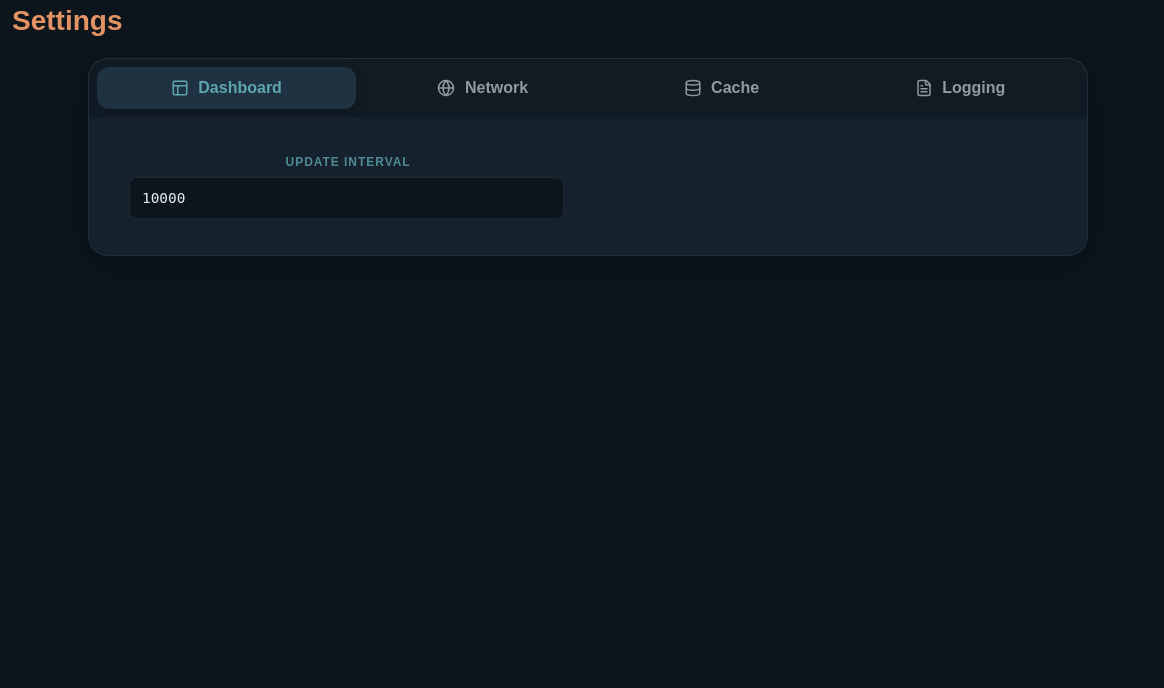
Test: settings page › shows restart-required state after saving a restart-required setting
The image size is (1164, 688).
Check: the field labelled "Update Interval" is enabled, box [142,178,551,218]
Click the button "Cache".
click(721, 88)  # box [610,67,833,109]
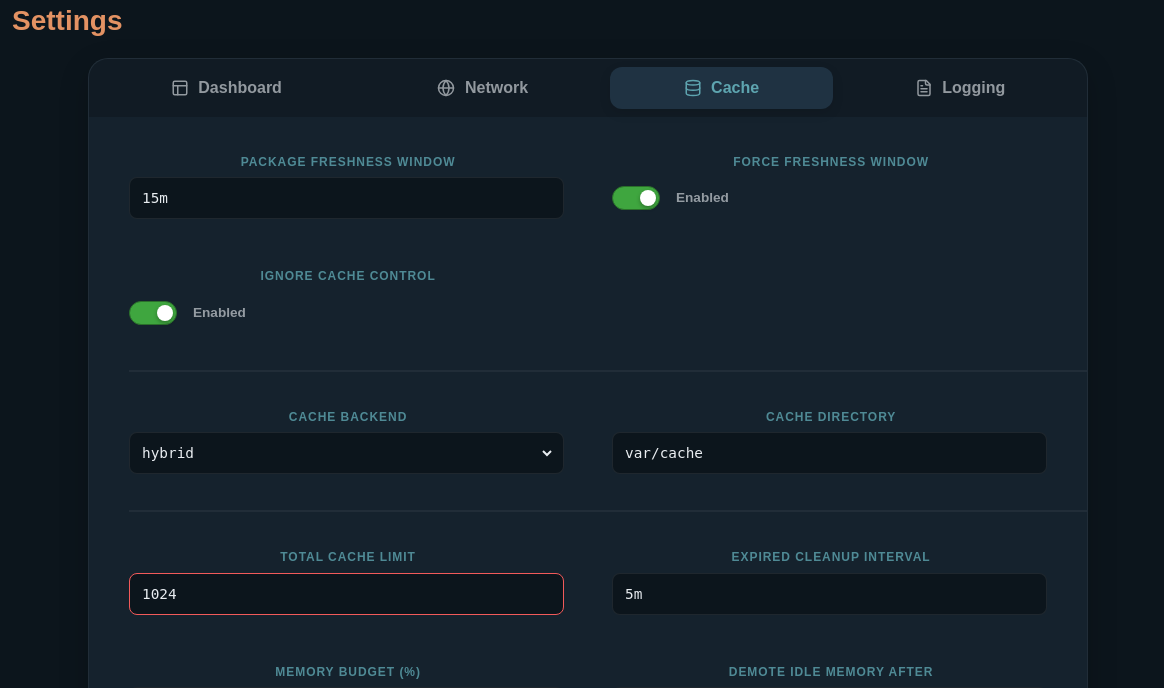
Select "file" in the dropdown labelled "Cache Backend" at (346, 453), box [138,433,555,473]
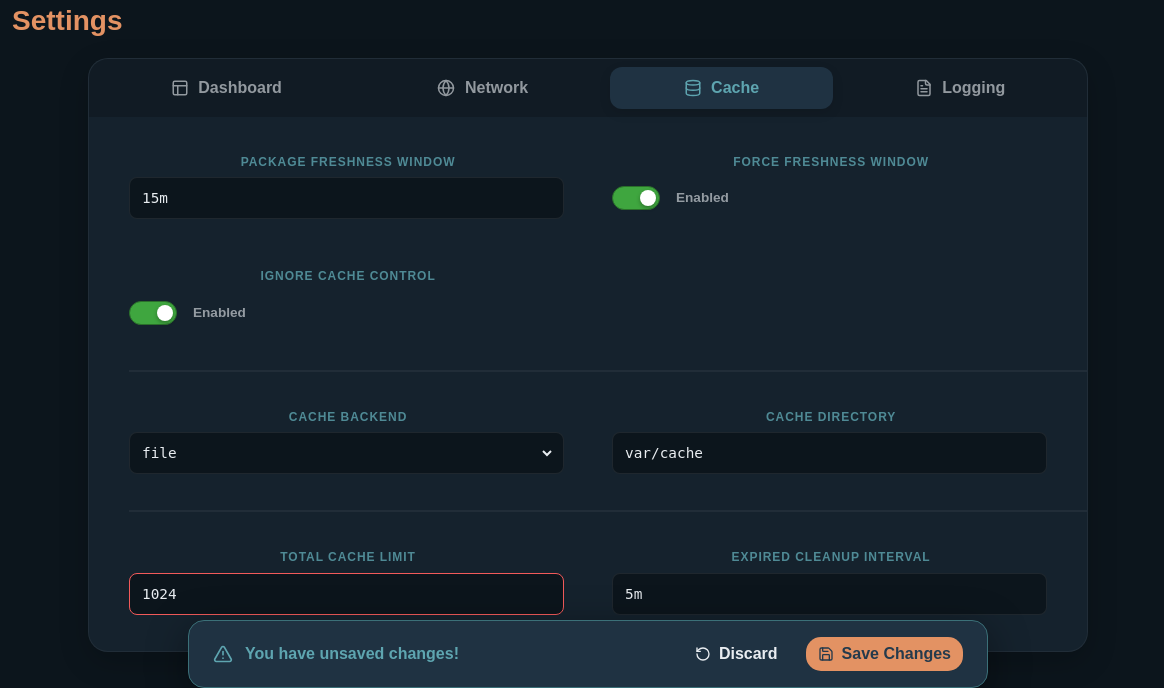
Click the button "Save Changes".
click(884, 654)  # box [806,637,963,671]
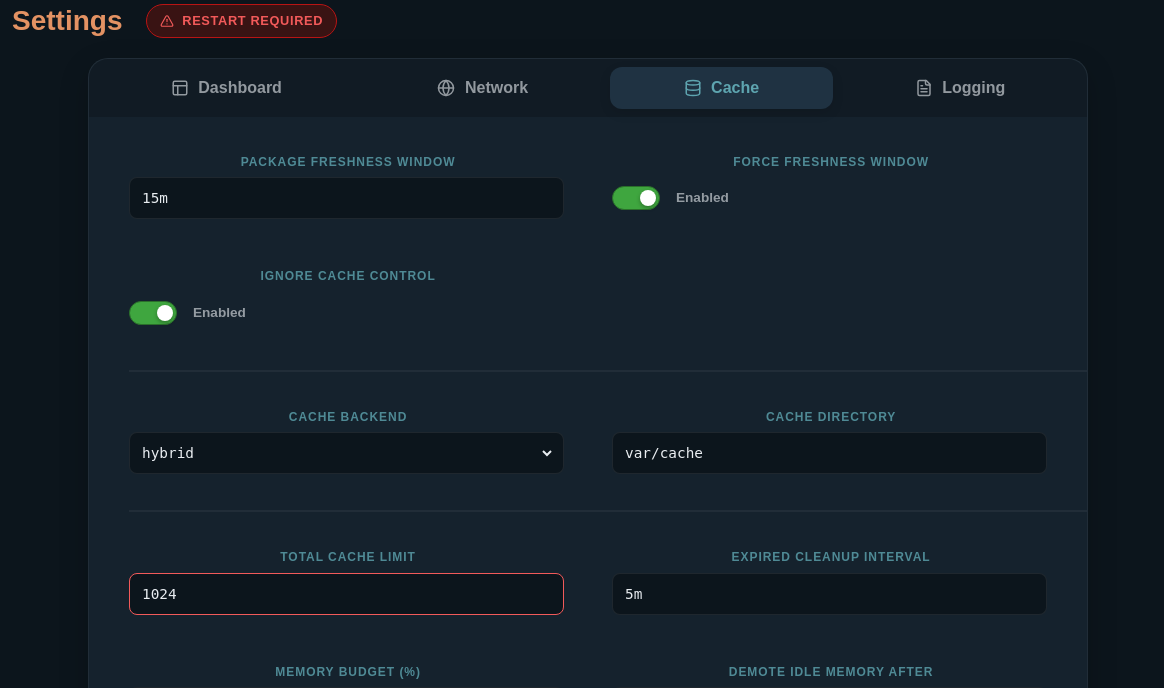
Check: the text "Restart Required" is shown, box [182,11,323,31]
